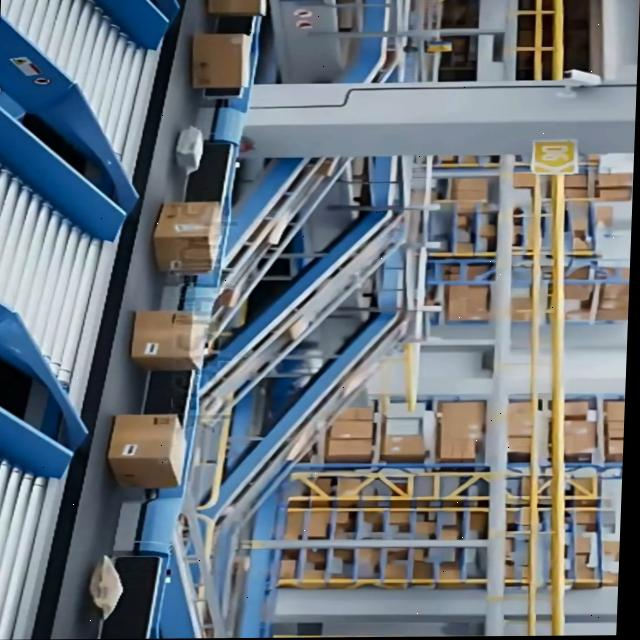product 1: (105, 413, 189, 480), (150, 201, 223, 274), (129, 309, 208, 371)
product 2: (173, 125, 205, 174)
